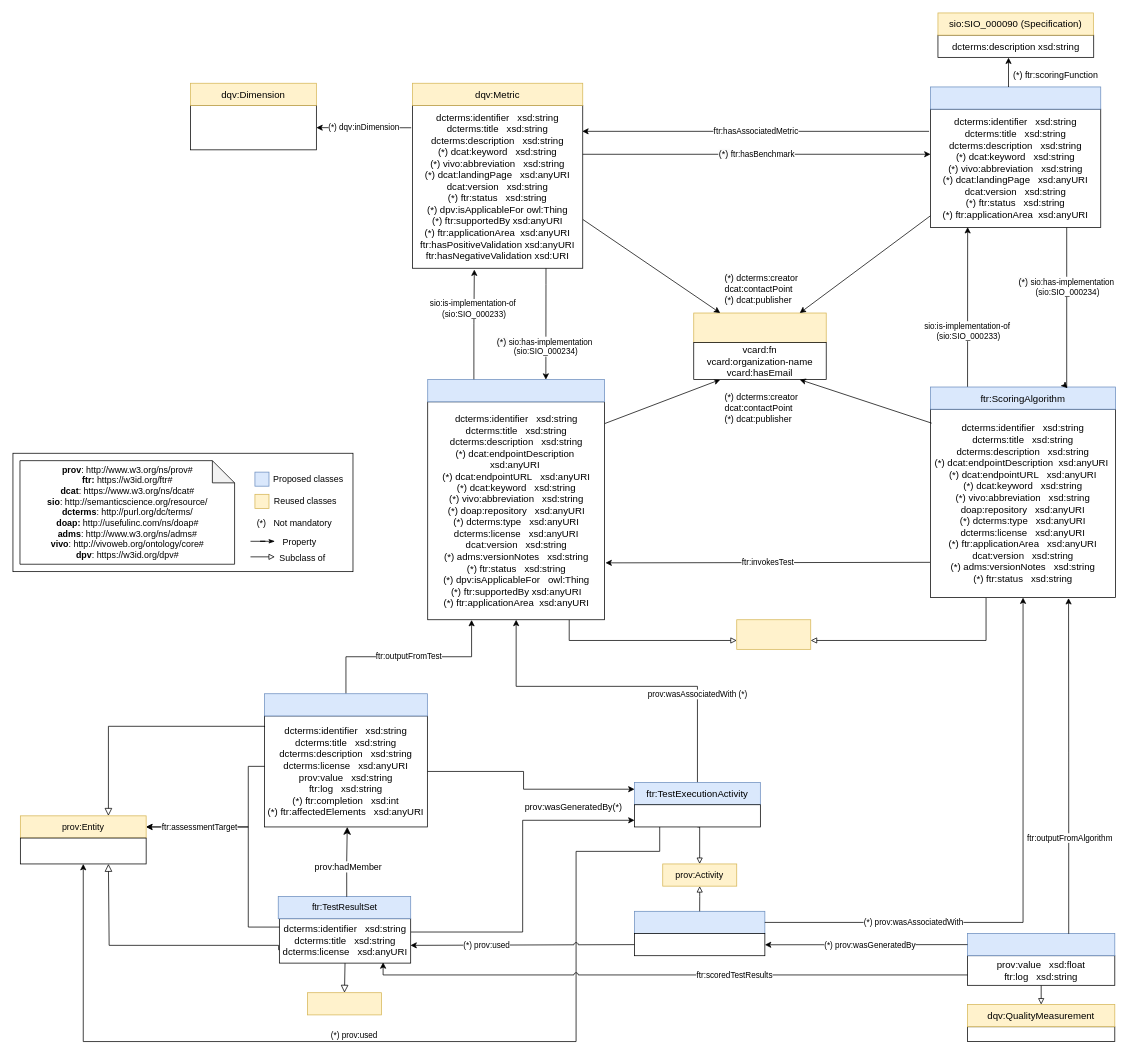
Some shapes in this 1136 by 1060 pixel diagram are drawn without their labels. The centre of each missing label's shape, as x and y in pixels:
dcat:DataService, prov:Agent: pixel 773 634
dcterms:identifier dcterms:title dcterms:description: pixel 253 127
dcterms:identifier xsd:string: pixel 83 850
ftr:Benchmark: pixel 1015 97
ftr:BenchmarkScore: pixel 1041 944
ftr:ScoringAlgorithmActivity: pixel 699 922
ftr:Test: pixel 516 390
ftr:TestResult: pixel 345 704
prov:Collection: pixel 344 1003
vcard:Individual or vcard:Organization: pixel 759 327
